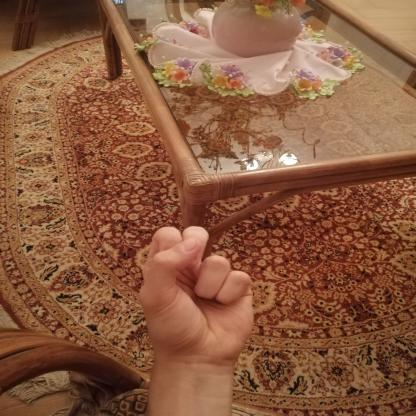QAAF: (121, 217, 277, 382)
